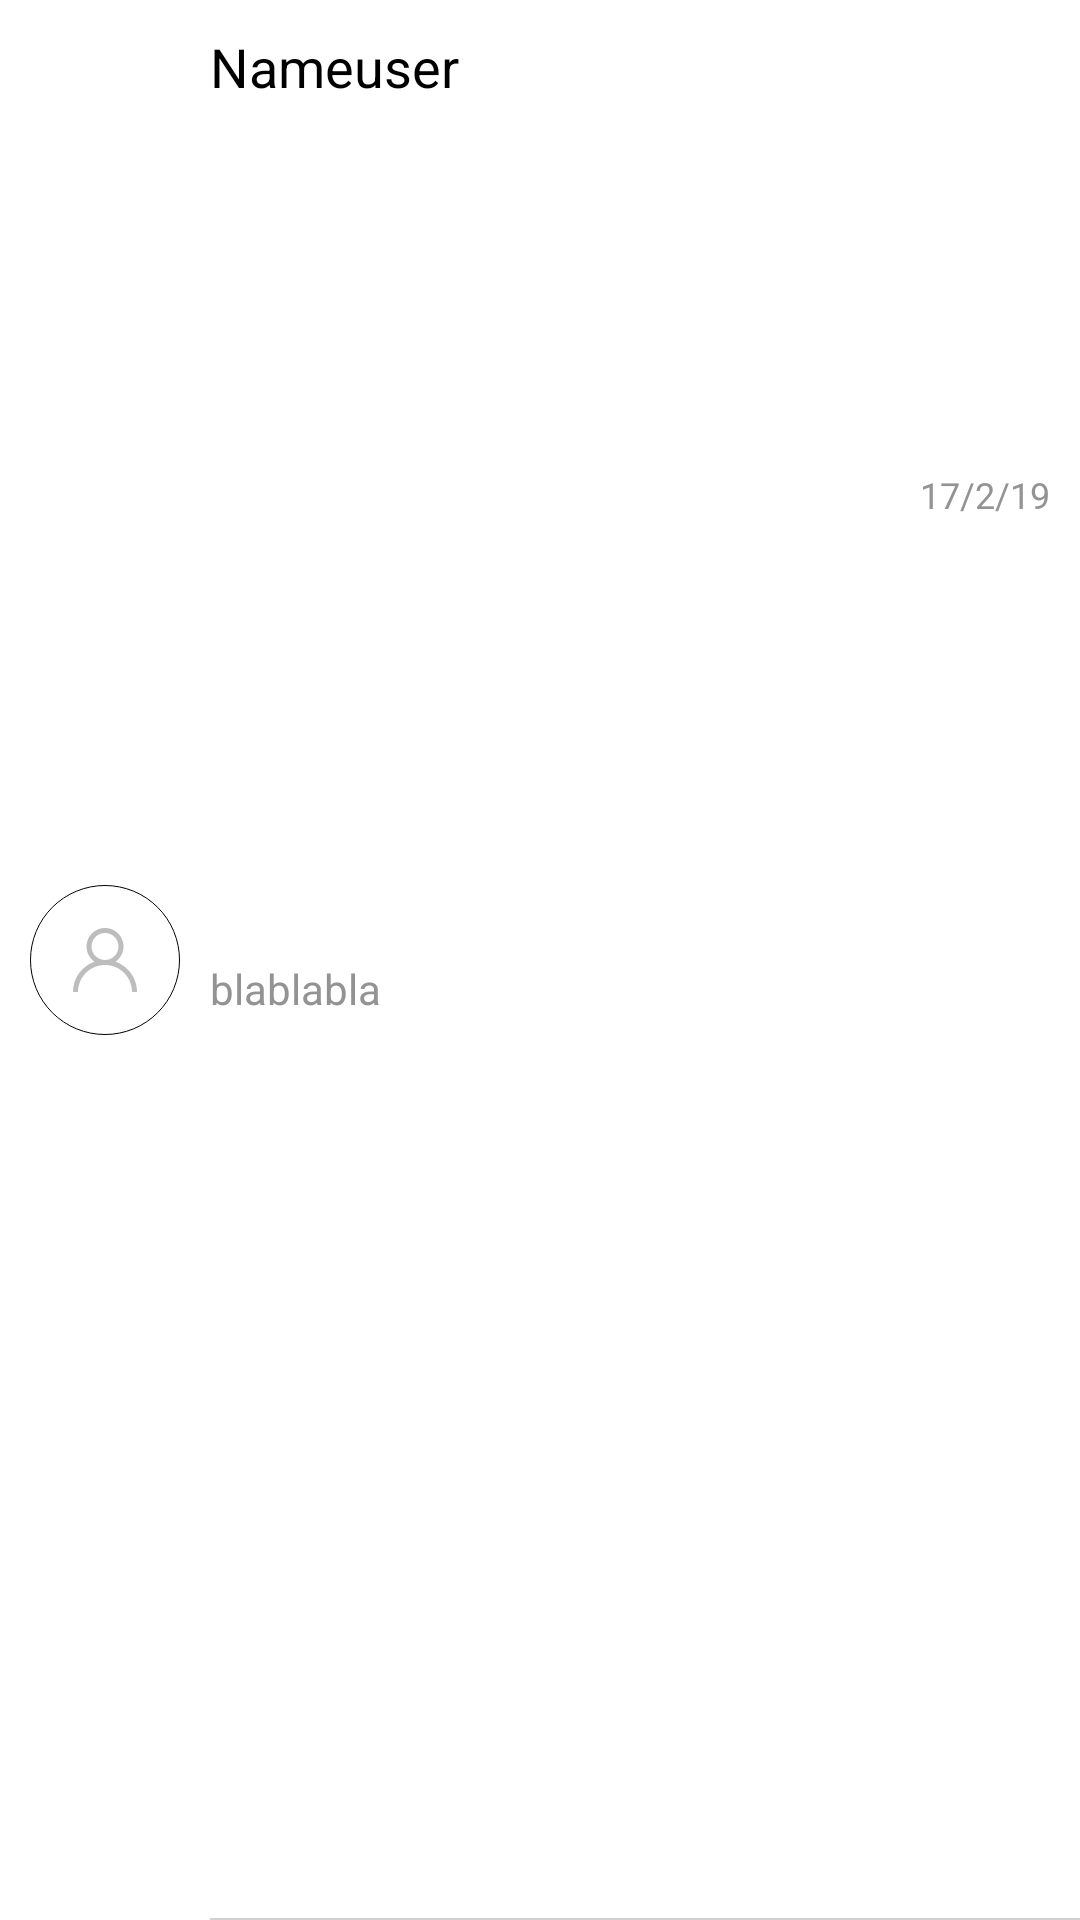

Where icons sit on this 1080×1920 app screen, as (x1, y1, x2, y2):
userpic: (30, 885, 180, 1035)
